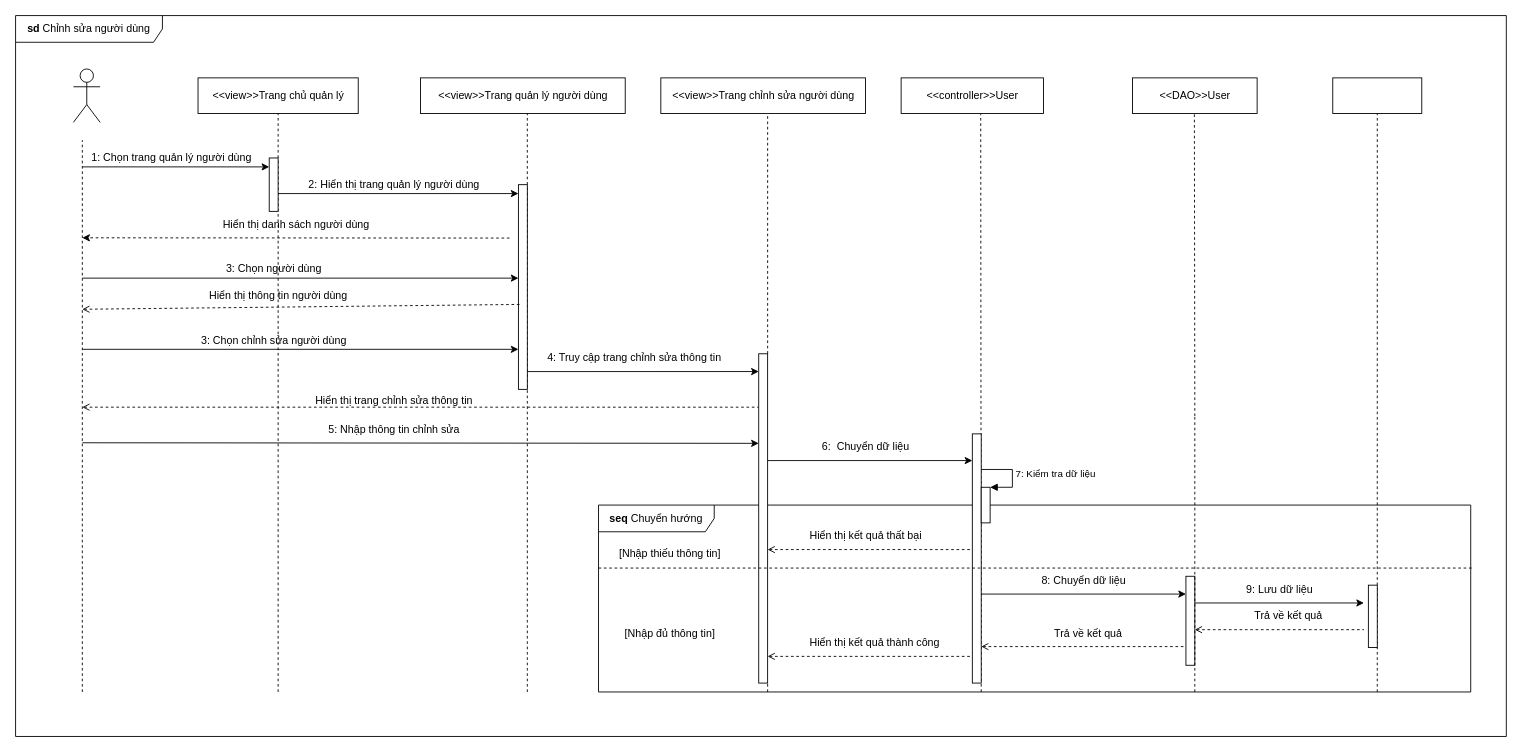
Some shapes in this 1522 by 752 pixel diagram are drawn without their labels. Each missing label, with the centre of its shape:
"Database" goes at point (1377, 95).
"Quản lý" goes at point (86, 95).
